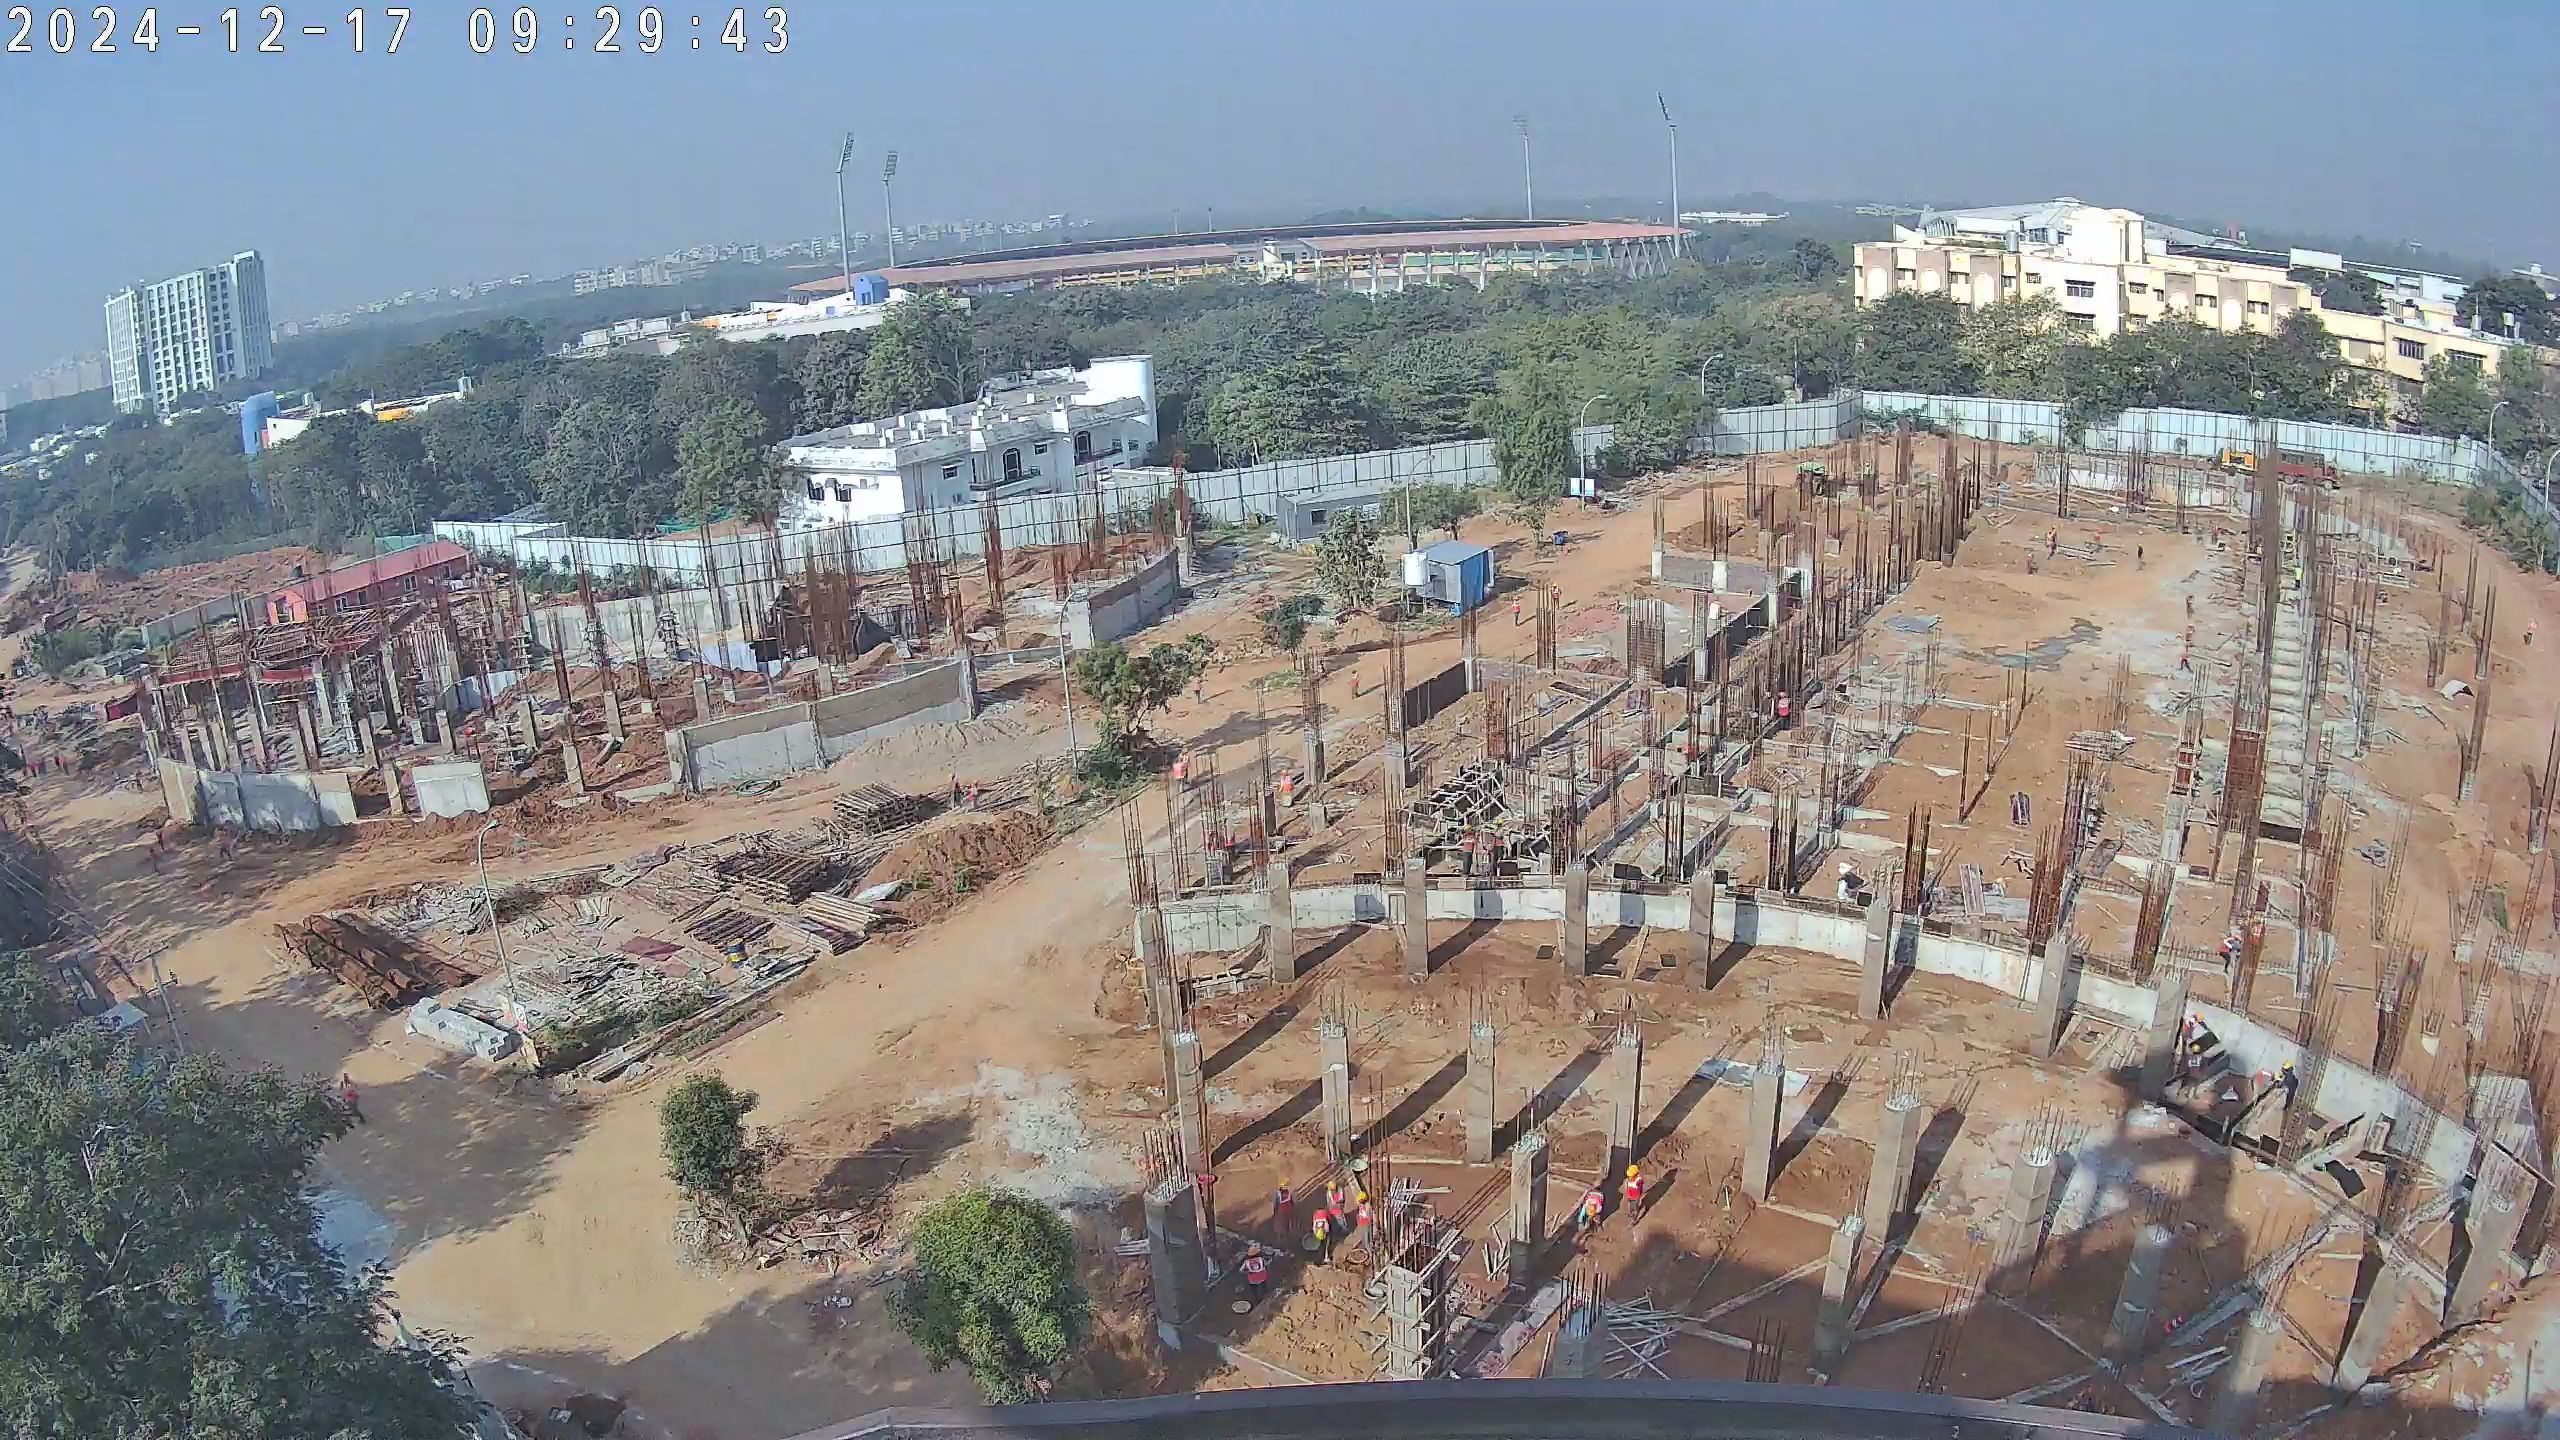bulldozer: (1793, 458, 1861, 500)
truck: (2218, 439, 2341, 497)
worker: (1256, 1179, 1295, 1250), (329, 1064, 369, 1129), (1618, 1156, 1647, 1231), (1238, 1250, 1273, 1309), (1210, 812, 1243, 864), (1353, 1189, 1378, 1257), (2178, 1007, 2203, 1075), (2245, 1064, 2279, 1113), (1321, 1176, 1349, 1235), (2213, 928, 2247, 975), (1574, 1187, 1604, 1237), (1486, 824, 1511, 880), (1312, 1207, 1334, 1264), (2185, 1041, 2203, 1103), (1458, 823, 1476, 885), (1158, 750, 1185, 791), (2280, 1059, 2298, 1119), (214, 821, 239, 864), (1774, 685, 1795, 734), (2247, 910, 2268, 956), (1345, 664, 1366, 705), (1192, 665, 1213, 705), (946, 770, 964, 815), (1274, 766, 1294, 804), (13, 743, 34, 779), (964, 776, 982, 817), (2130, 543, 2151, 573), (1547, 579, 1565, 613), (2177, 643, 2195, 677), (2022, 546, 2040, 580), (1508, 593, 1523, 631), (2049, 524, 2065, 559), (2042, 529, 2058, 563), (2183, 593, 2201, 622), (2090, 525, 2107, 555), (2523, 616, 2538, 648), (2206, 520, 2223, 546), (2183, 622, 2196, 653), (60, 753, 73, 778), (28, 758, 39, 785), (50, 752, 64, 773), (1863, 460, 1873, 487), (37, 754, 46, 776)
